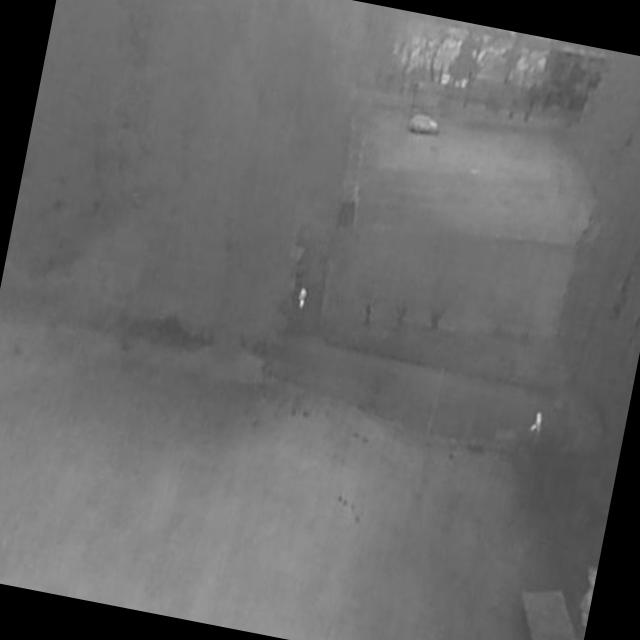person: (528, 411, 546, 438), (296, 287, 310, 312)
